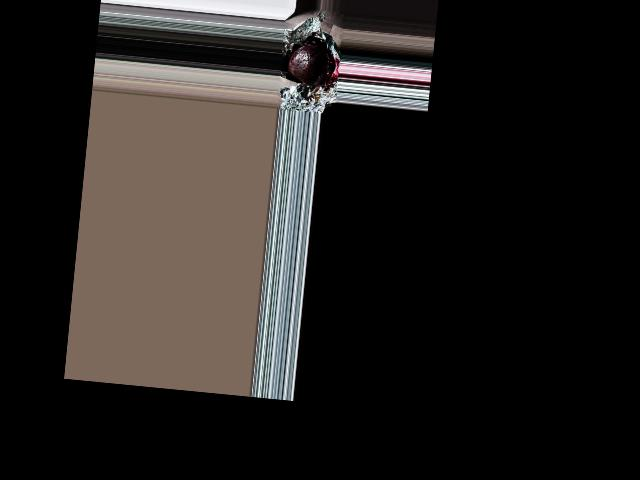beet: (286, 42, 329, 88)
